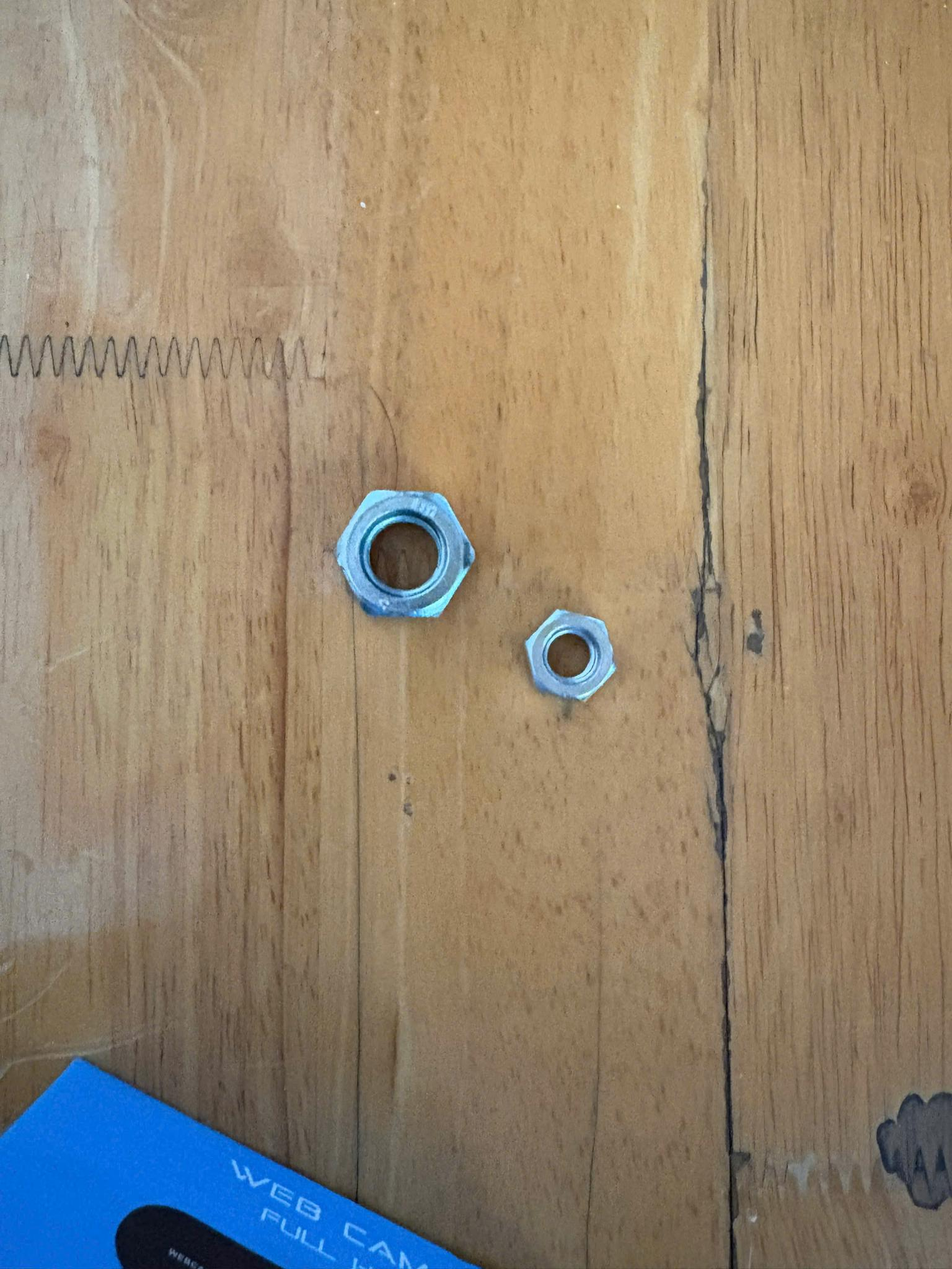nut: (327, 459, 478, 649), (521, 595, 625, 722)
